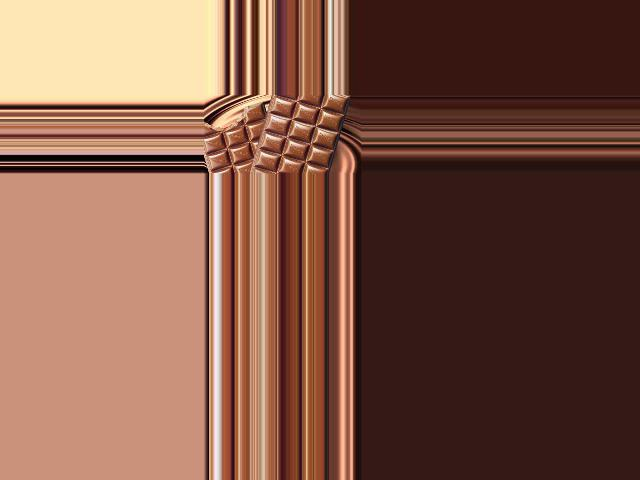chocolate: (249, 96, 352, 174)
